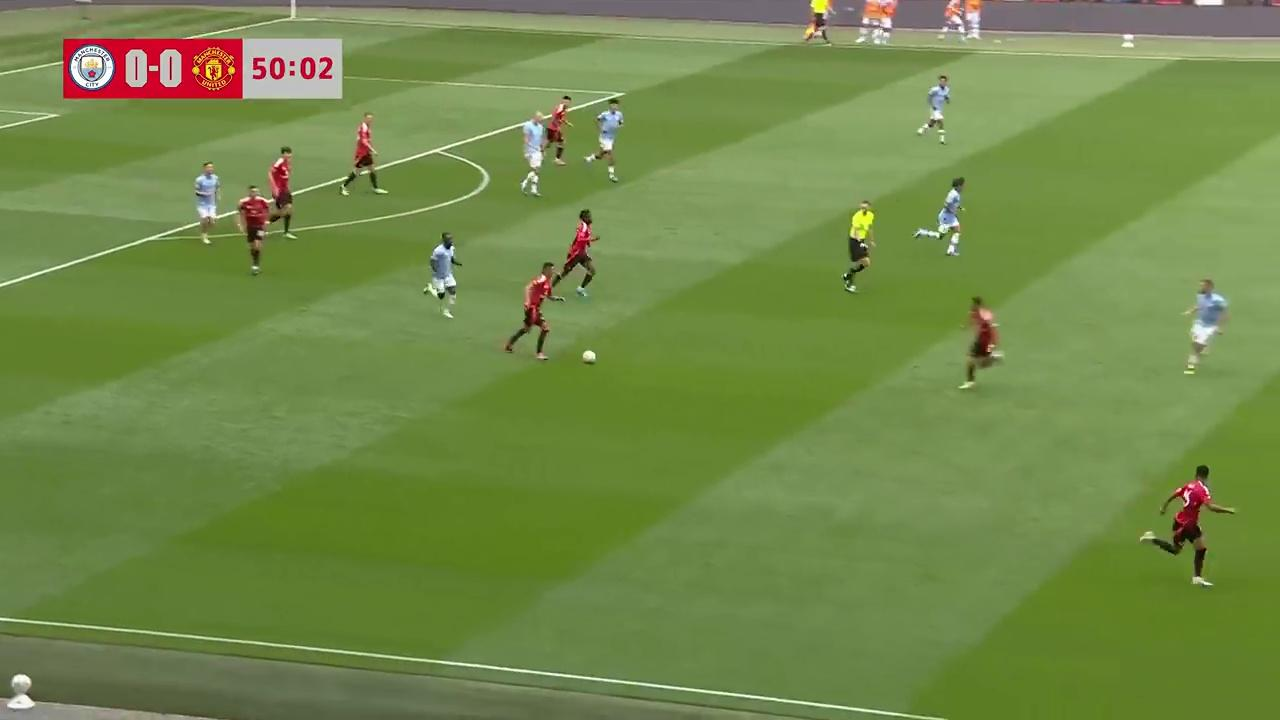ball: (581, 346, 597, 364)
player: (1158, 465, 1236, 586), (501, 264, 560, 358), (1181, 278, 1229, 375), (957, 295, 1004, 388), (553, 209, 601, 299), (913, 177, 965, 256), (339, 112, 384, 195), (585, 98, 624, 183), (424, 231, 462, 317), (237, 190, 269, 276), (916, 74, 951, 144), (268, 146, 294, 237), (541, 94, 573, 165), (193, 161, 219, 245), (519, 116, 545, 196)
referee: (843, 199, 876, 292), (803, 0, 834, 47)
